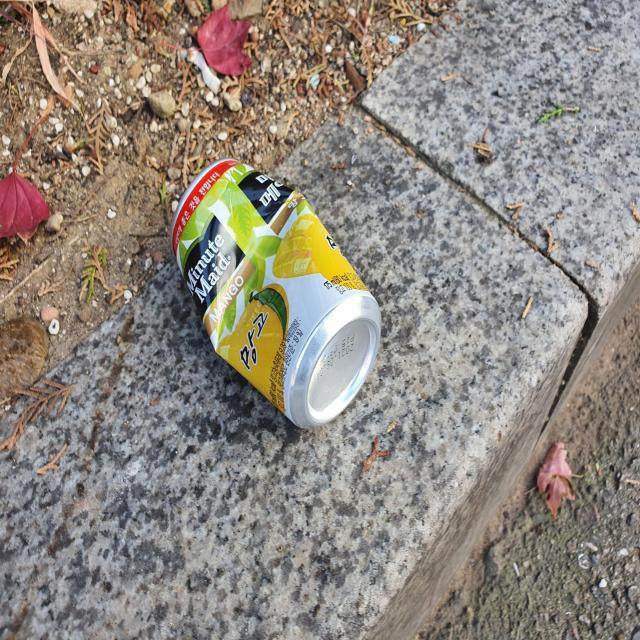can: (171, 158, 381, 429)
